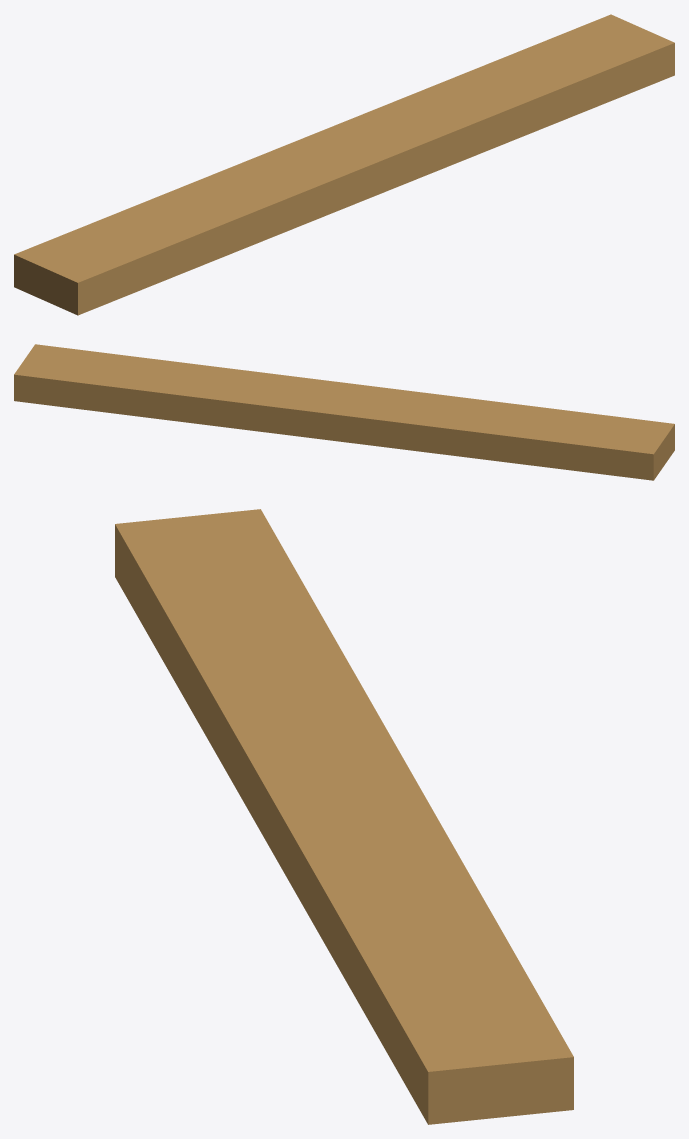
3 renders of one model, top to bottom at view 1: azimuth 30°, elevation 25°; view 2: azimuth 150°, elevation 25°; view 3: azimuth 270°, elevation 25°, orthographic. The views are drawn at different scales.
Visible parts, largest first — view 1: RUN-018-S02-ribbon; view 2: RUN-018-S02-ribbon; view 3: RUN-018-S02-ribbon.
Boxes of the visible parts, x1,y1,x2,y2 form: RUN-018-S02-ribbon: (14,14,674,315); RUN-018-S02-ribbon: (14,344,674,480); RUN-018-S02-ribbon: (115,509,573,1124).
Bounding box in the file's own units: 0.7987 × 0.035 × 0.2753.
